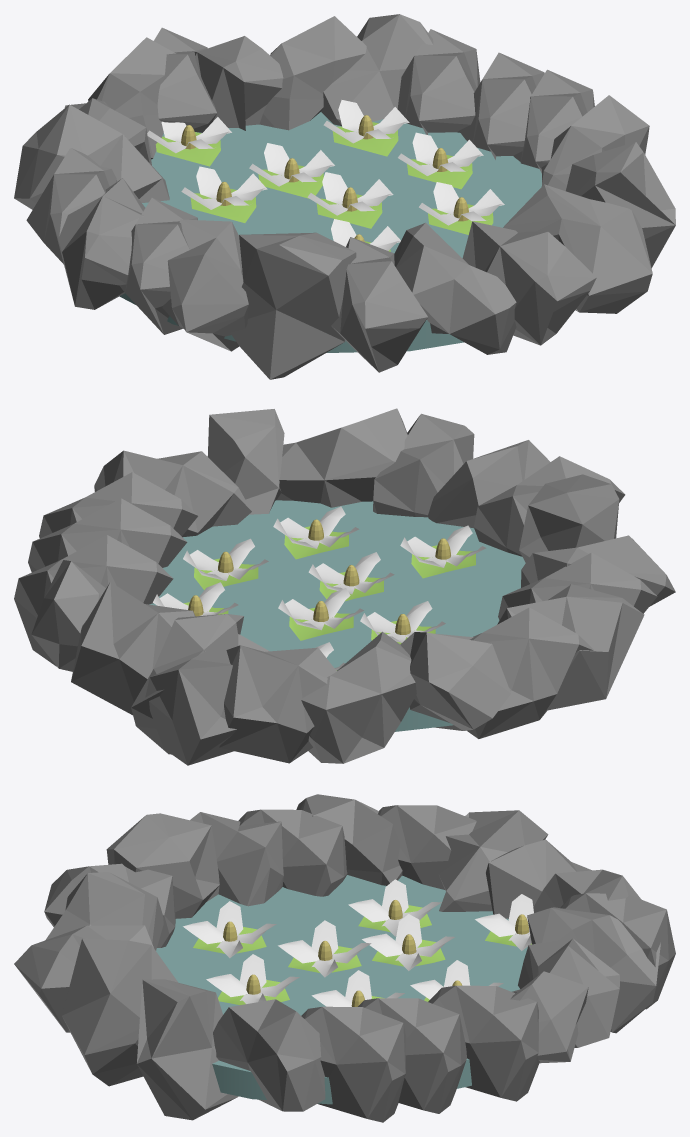
The model's file is LillyPond.fbx.
3 views of the same model, one above another, from view 1: azimuth 30°, elevation 25°; view 2: azimuth 150°, elevation 25°; view 3: azimuth 270°, elevation 25° (orthographic). The views are drawn at different scales.
Parts seen in each view (by area): view 1: LillyPond; view 2: LillyPond; view 3: LillyPond.
Part boxes in pixels (bbox=[...]): LillyPond: bbox=[14, 14, 675, 379]; LillyPond: bbox=[14, 408, 675, 765]; LillyPond: bbox=[14, 794, 675, 1122].
Size of the model in its own units: 7.75 by 1.94 by 8.44.
